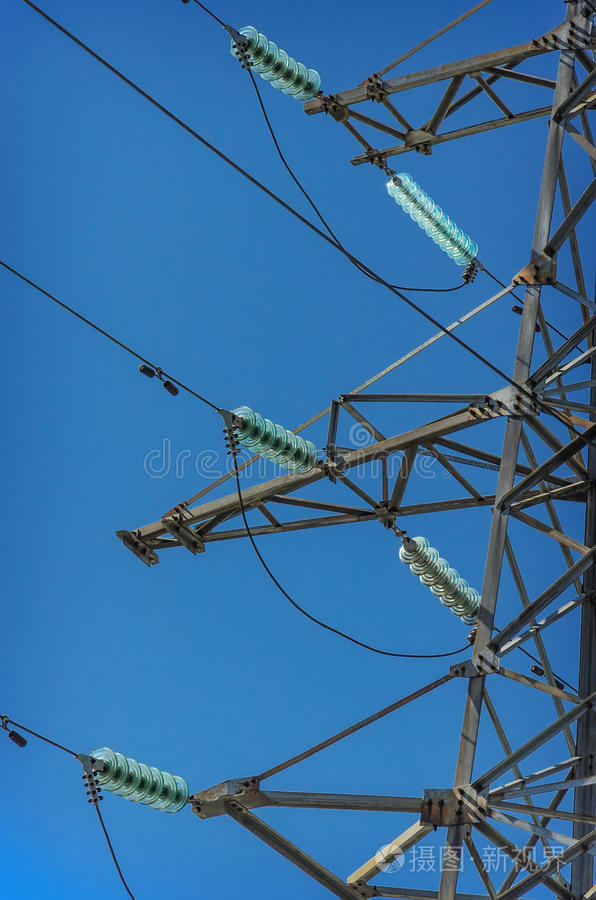insulator: (387, 171, 480, 264), (228, 23, 322, 101), (84, 746, 188, 814), (400, 534, 483, 619), (227, 406, 318, 468)
